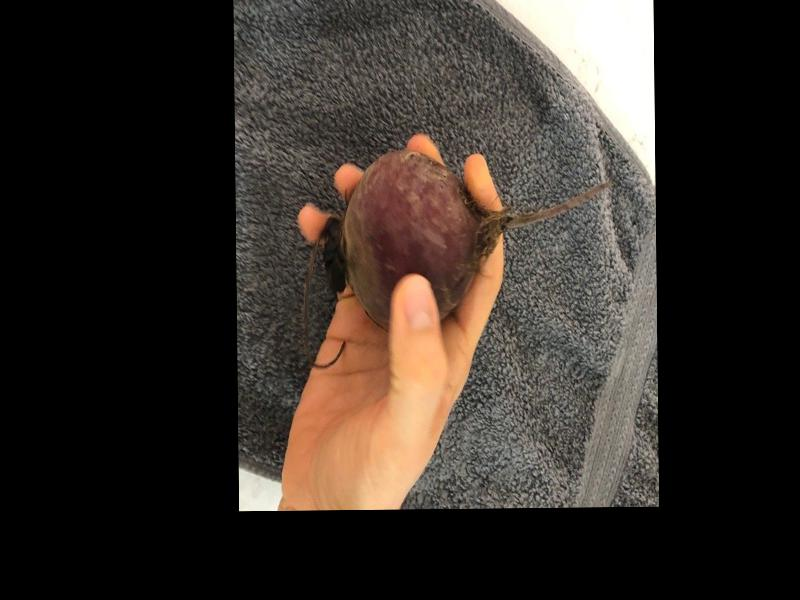Beet: (323, 147, 615, 332)
